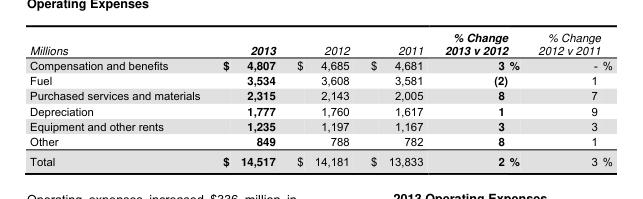table: (29, 28, 611, 168)
table column: (29, 28, 210, 168), (433, 28, 528, 168), (528, 28, 611, 168), (210, 28, 285, 168), (285, 28, 359, 168), (359, 28, 433, 168)
table column header: (29, 28, 611, 57)
table row: (29, 28, 611, 57), (29, 132, 611, 150), (29, 150, 611, 168), (29, 57, 611, 72), (29, 72, 611, 87), (29, 87, 611, 102), (29, 102, 611, 117), (29, 117, 611, 132)
